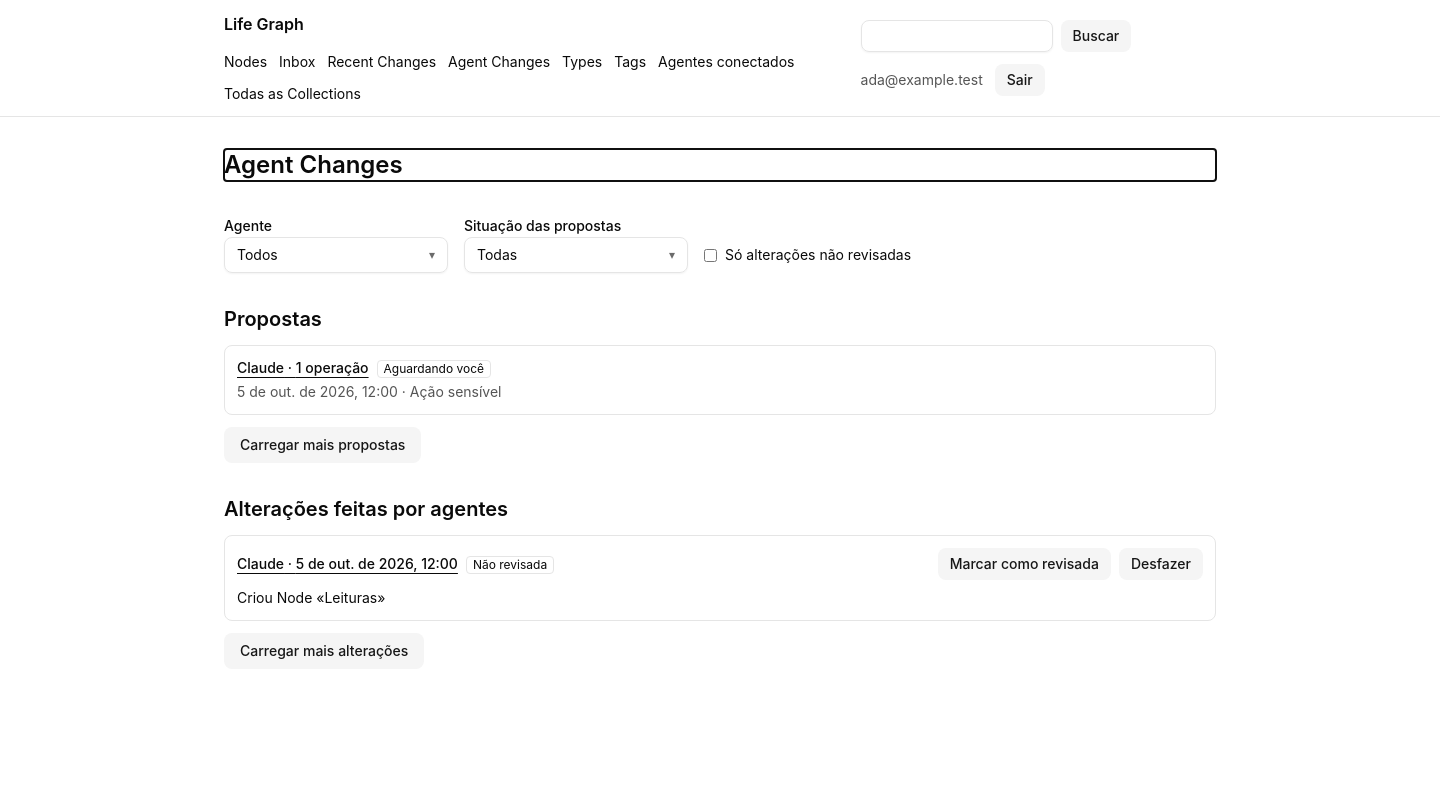
Agent Changes › keeps the loaded pages when loading more fails, and says so next to the button
What coordinates should you click on to do the following:
click the button "Carregar mais propostas"
I would click on:
 (323, 445)
Its box is [224,427,421,463].
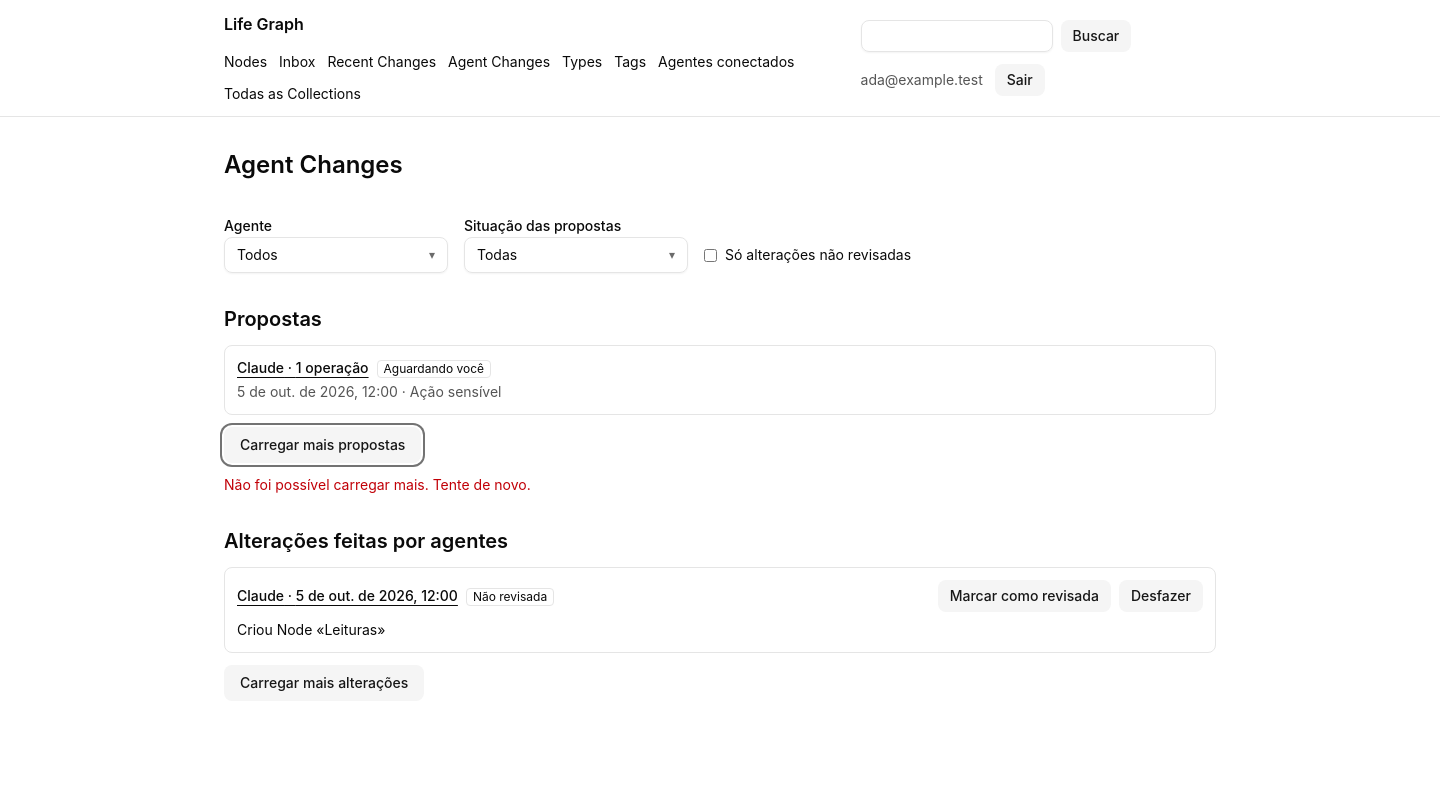
What coordinates should you click on to do the following:
click the button "Carregar mais alterações"
I would click on:
 (324, 683)
Its box is [224,665,424,701].
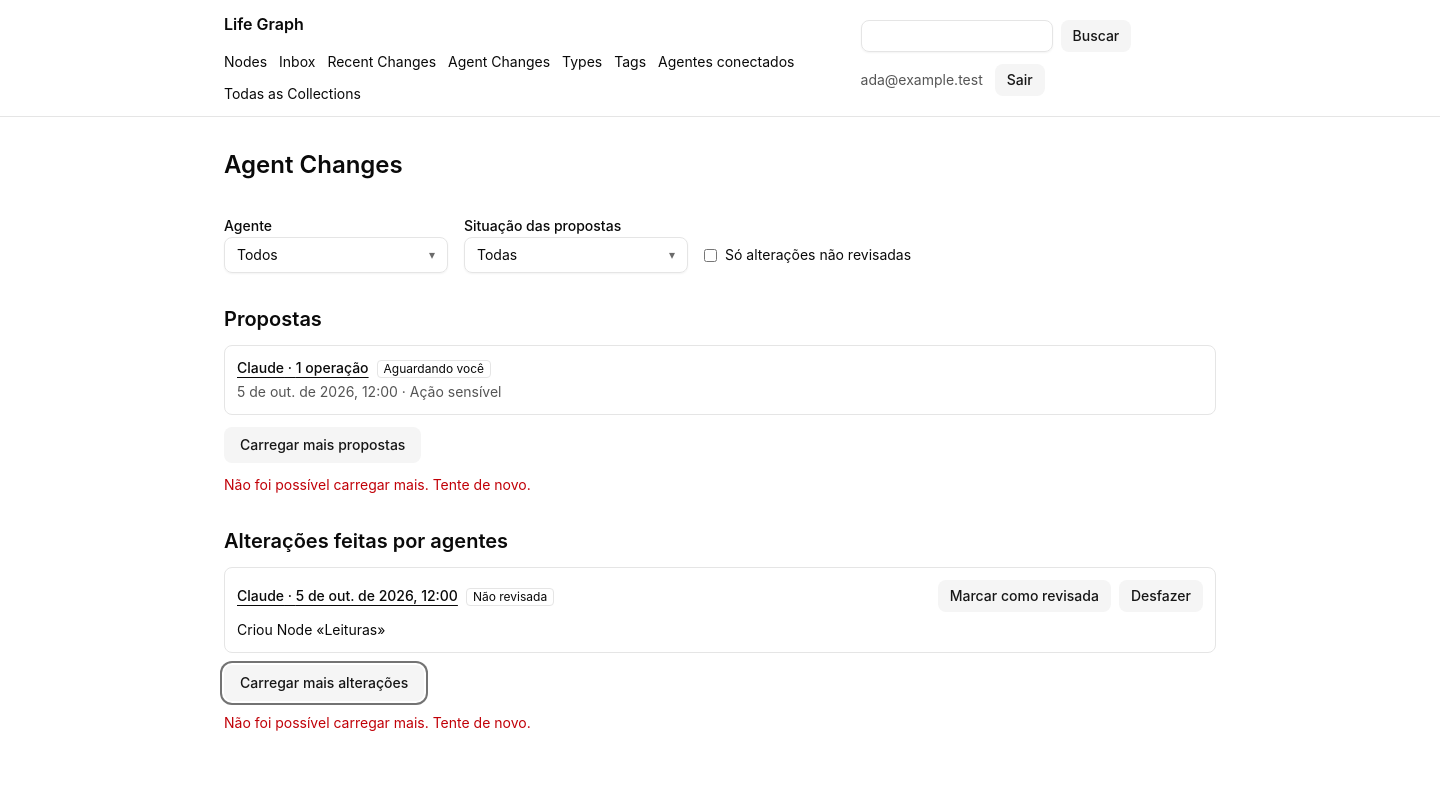
Expected: the link "Claude · 1 operação" is shown, [237,358,369,378]
Result: the message "Não foi possível carregar mais. Tente de novo." below "Ação sensível" is shown at [224,476,531,493]
Result: the message "Não foi possível carregar mais. Tente de novo." below "Criou Node «Leituras»" is shown at [224,714,531,731]
